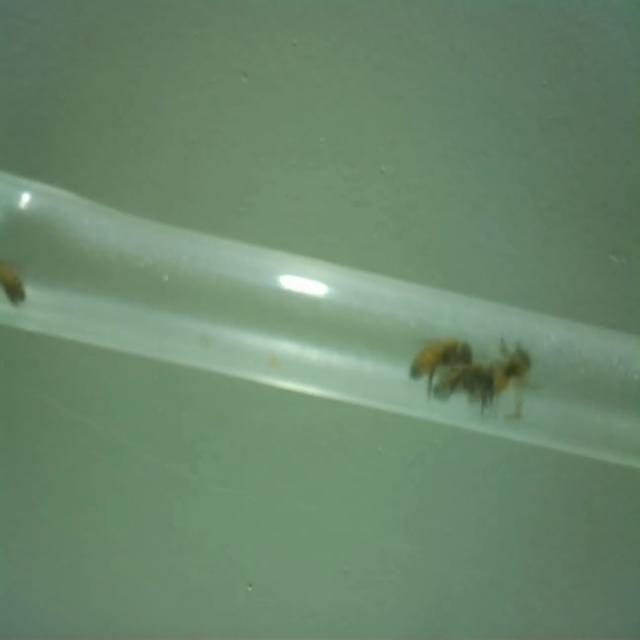Honeybee-Detection: (409, 317, 473, 379), (492, 338, 539, 419), (434, 363, 498, 414), (0, 238, 25, 305)
